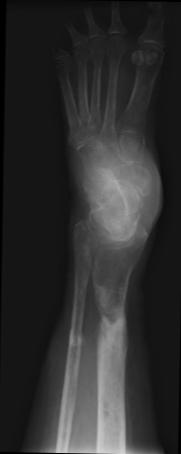fractured: (55, 113, 88, 153), (96, 105, 114, 128)
